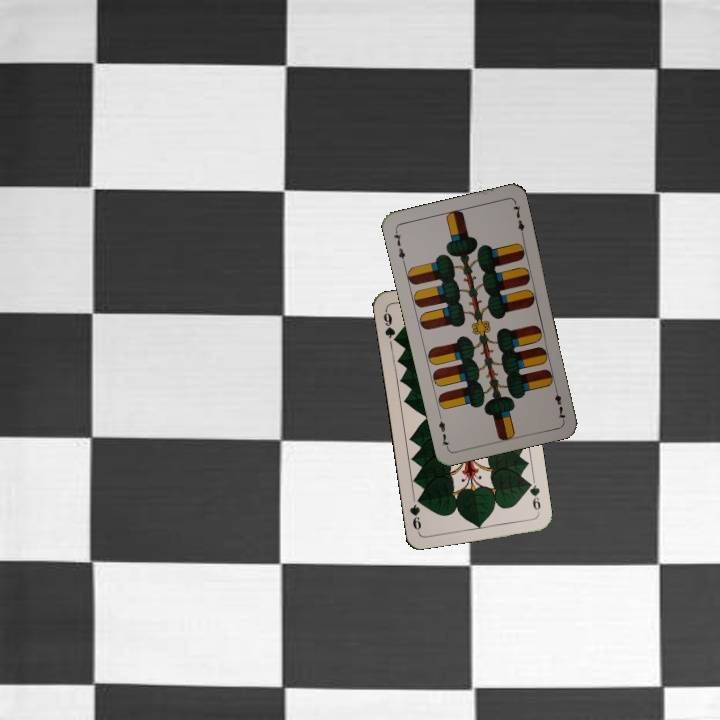E7: (390, 226, 408, 266), (551, 382, 568, 422)
G9: (379, 306, 401, 346), (523, 476, 543, 516)
